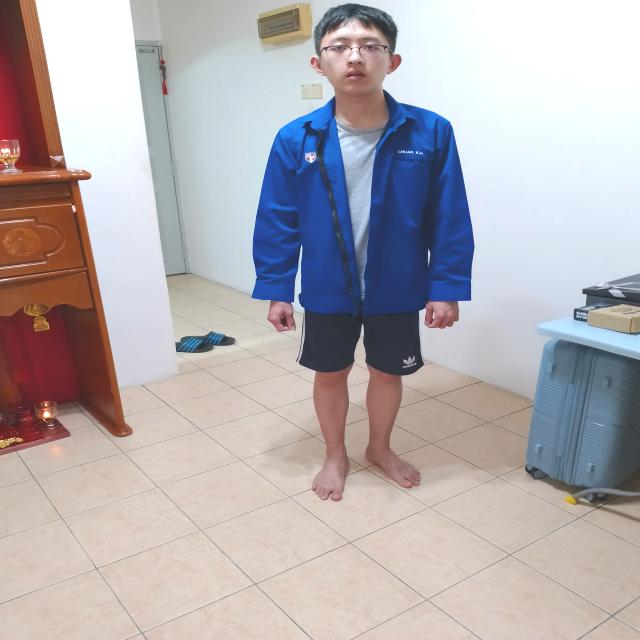person_with_labcoat: (252, 4, 474, 501)
